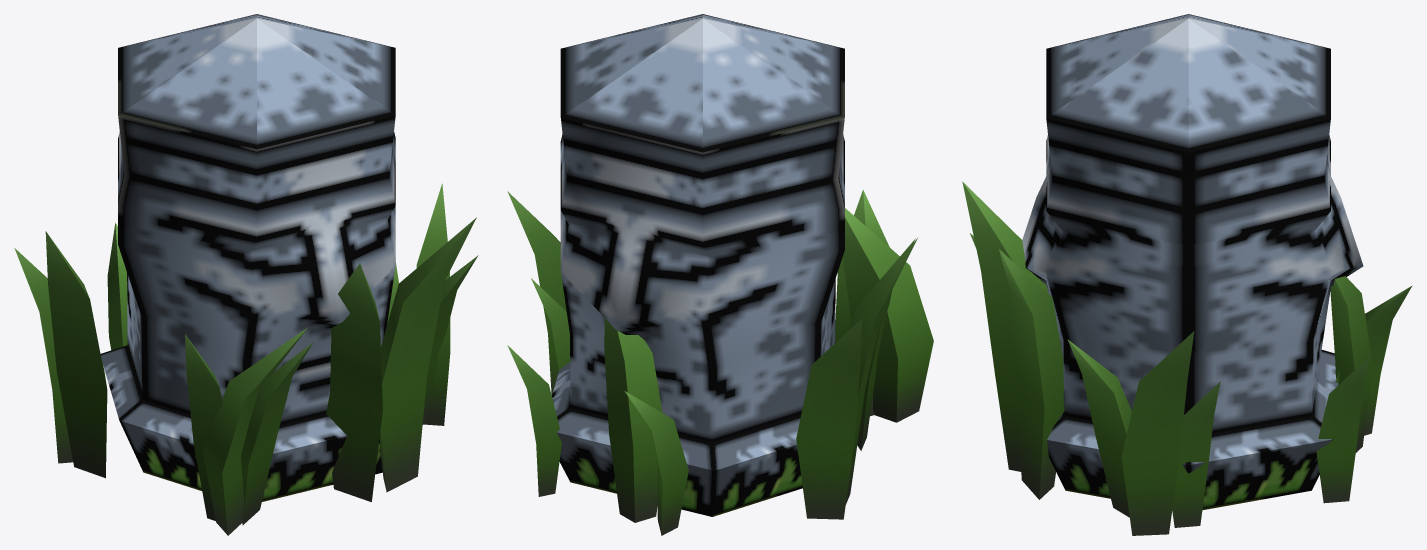
Rendered from deco_statueSmall_grass.FBX.
3 renders of one model, left to right at view 1: azimuth 30°, elevation 25°; view 2: azimuth 150°, elevation 25°; view 3: azimuth 270°, elevation 25°, orthographic. The views are drawn at different scales.
Visible parts, largest first — view 1: deco_statueSmall_grass; view 2: deco_statueSmall_grass; view 3: deco_statueSmall_grass.
Boxes of the visible parts, <box> form: deco_statueSmall_grass: <box>14,14,478,535</box>; deco_statueSmall_grass: <box>507,14,933,535</box>; deco_statueSmall_grass: <box>962,14,1412,535</box>.
Bounding box in the file's own units: 2.15 × 2.25 × 2.05.
1 material, 1 textured.
